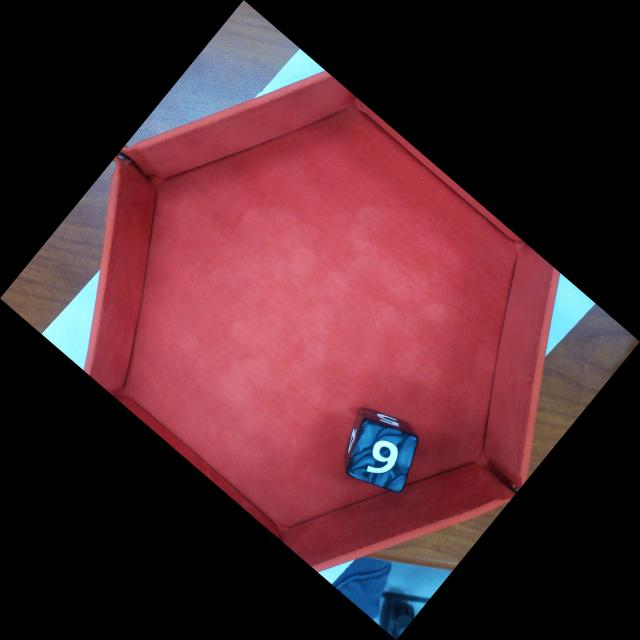dice: (345, 417, 421, 495)
